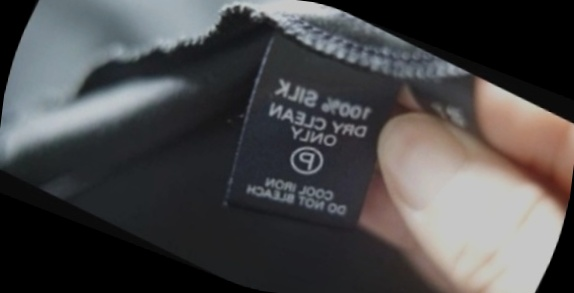dry_clean_any_solvent_except_trichloroethylene: (278, 132, 334, 186)
